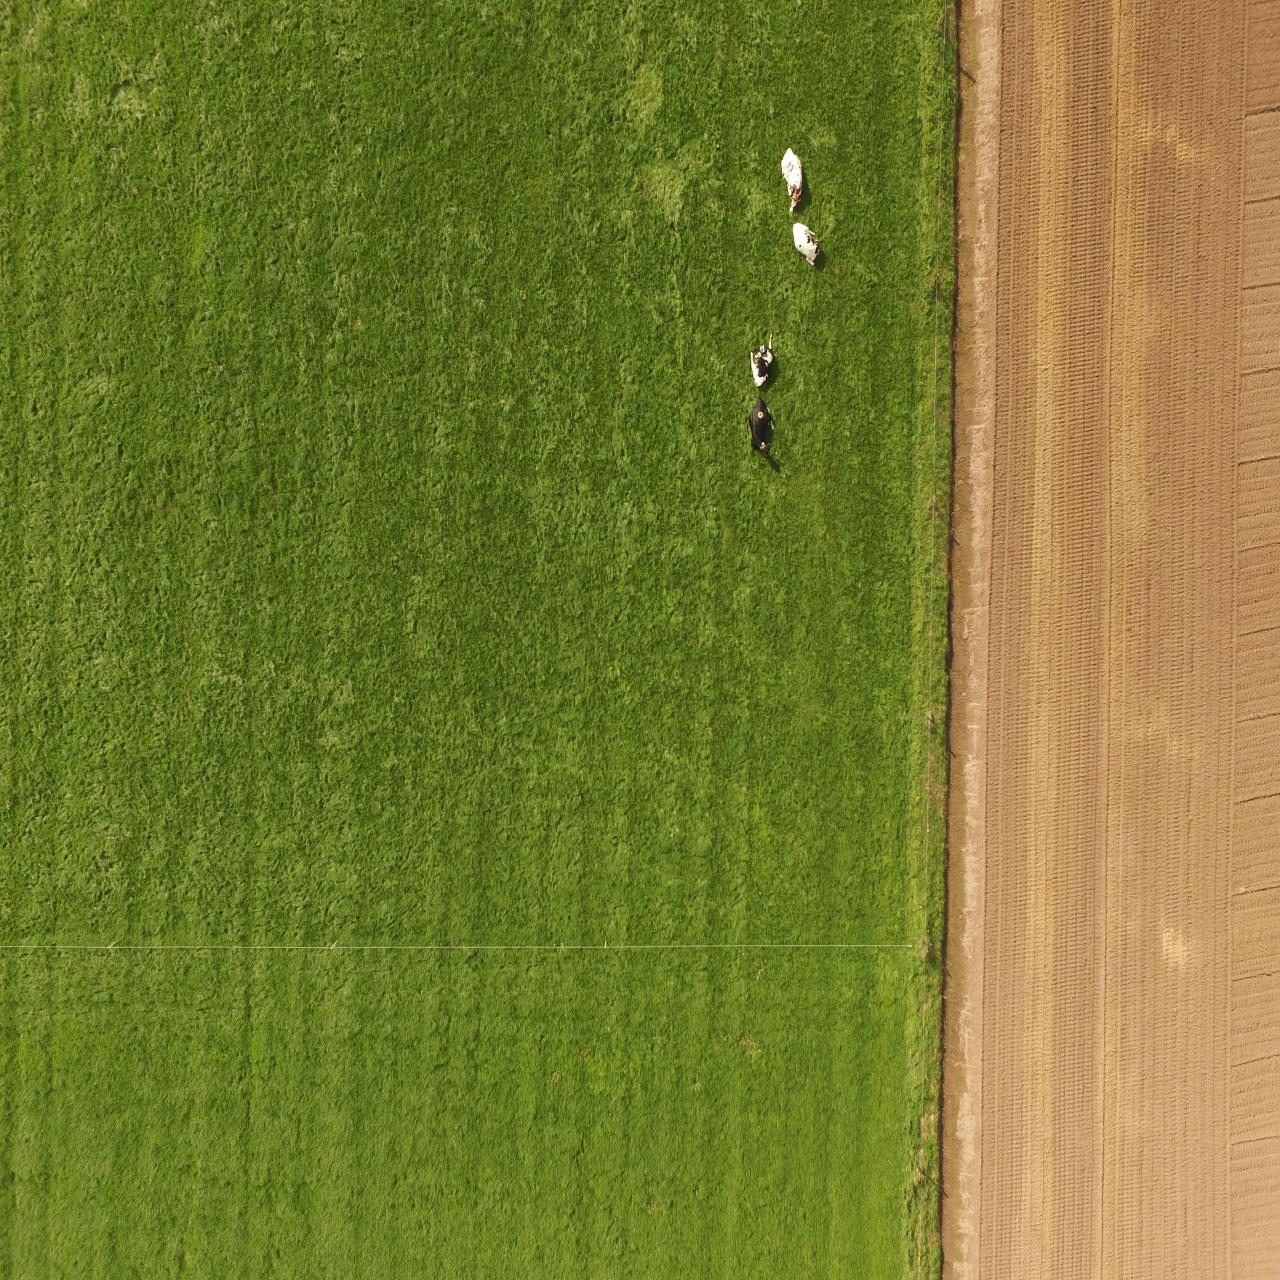cow: (740, 392, 778, 475), (778, 144, 806, 216), (747, 335, 778, 392), (791, 218, 822, 270)
